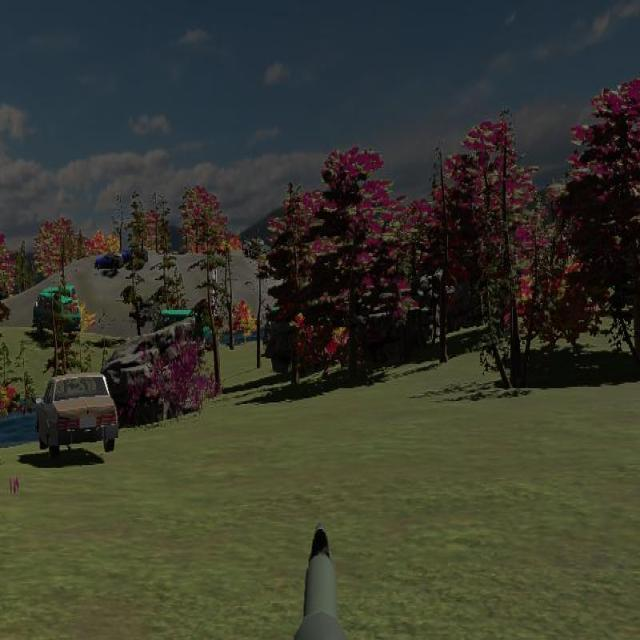car: (36, 372, 119, 459), (32, 292, 81, 337)
